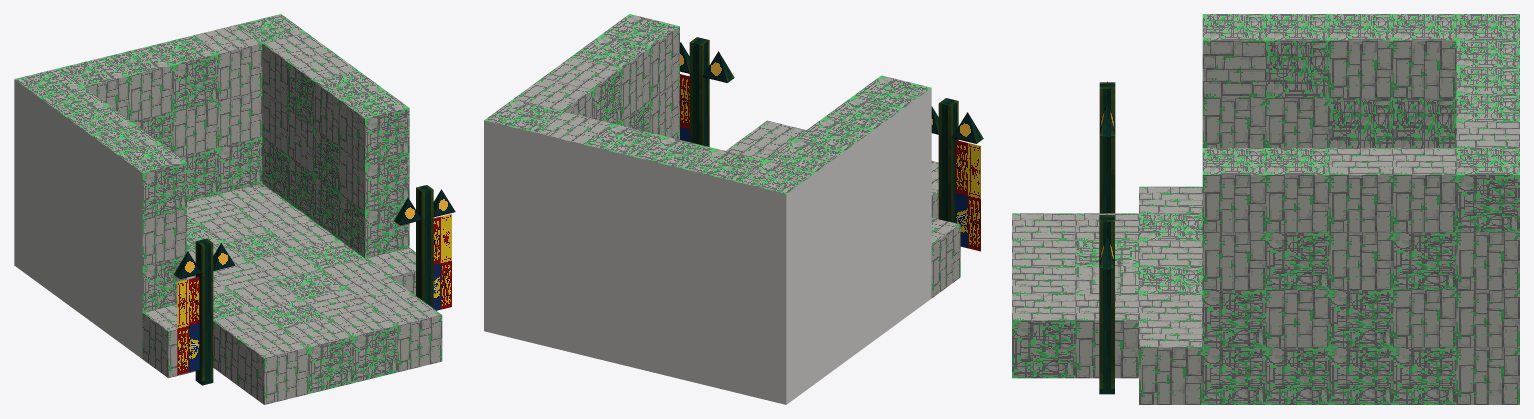
Rendered from BlockTile_1787352578.glb.
3 renders of one model, left to right at view 1: azimuth 30°, elevation 25°; view 2: azimuth 150°, elevation 25°; view 3: azimuth 270°, elevation 25°, orthographic. The views are drawn at different scales.
Visible parts, largest first — view 1: group_A8C6062A, group_6C0313ED, group_54126526, group_463A83C3, group_F192CCC8, group_F48D379F, group_FCF2D747, group_822B5C12, group_84A41A6B, group_44BA9EBA, group_4F5D5284, group_BB3BE84D (+56 smaller); view 2: group_A667FF08, group_A8C6062A, group_4E7DF7D3, group_458DBFCB, group_F923CE05, group_25A48617, group_BB3BE84D, group_4F5D5284, group_7901570D, group_A9ECB0AE, group_6C0313ED, group_F192CCC8 (+40 smaller); view 3: group_1BEBE0ED, group_822B5C12, group_9AB56C50, group_A9ECB0AE, group_AD615EF8, group_3CCA406B, group_54126526, group_646A727A, group_B1A921E3, group_F192CCC8, group_FD4D80A2, group_B5153871 (+37 smaller).
Boxes of the visible parts, bbox=[...] form: group_A8C6062A: bbox=[173, 238, 235, 385]; group_6C0313ED: bbox=[394, 185, 455, 310]; group_54126526: bbox=[339, 89, 409, 165]; group_463A83C3: bbox=[238, 329, 308, 404]; group_F192CCC8: bbox=[117, 143, 186, 219]; group_F48D379F: bbox=[339, 147, 409, 211]; group_FCF2D747: bbox=[283, 318, 353, 393]; group_822B5C12: bbox=[372, 296, 442, 372]; group_84A41A6B: bbox=[117, 201, 186, 266]; group_44BA9EBA: bbox=[328, 307, 397, 382]; group_4F5D5284: bbox=[192, 25, 262, 100]; group_BB3BE84D: bbox=[148, 36, 217, 111]; group_A667FF08: bbox=[736, 160, 815, 246]; group_A8C6062A: bbox=[931, 98, 983, 251]; group_4E7DF7D3: bbox=[736, 278, 815, 351]; group_458DBFCB: bbox=[736, 226, 815, 299]; group_F923CE05: bbox=[736, 331, 815, 404]; group_25A48617: bbox=[685, 148, 764, 234]; group_BB3BE84D: bbox=[585, 124, 663, 209]; group_4F5D5284: bbox=[534, 111, 613, 197]; group_7901570D: bbox=[635, 136, 713, 222]; group_A9ECB0AE: bbox=[484, 99, 562, 185]; group_6C0313ED: bbox=[680, 37, 734, 146]; group_F192CCC8: bbox=[852, 75, 931, 161]; group_1BEBE0ED: bbox=[1329, 14, 1392, 98]; group_822B5C12: bbox=[1012, 294, 1075, 378]; group_9AB56C50: bbox=[1329, 148, 1392, 232]; group_A9ECB0AE: bbox=[1456, 148, 1519, 232]; group_AD615EF8: bbox=[1139, 320, 1202, 404]; group_3CCA406B: bbox=[1266, 14, 1329, 98]; group_54126526: bbox=[1202, 148, 1265, 232]; group_646A727A: bbox=[1266, 148, 1329, 232]; group_B1A921E3: bbox=[1393, 148, 1456, 232]; group_F192CCC8: bbox=[1202, 14, 1265, 98]; group_FD4D80A2: bbox=[1393, 14, 1456, 98]; group_B5153871: bbox=[1075, 294, 1138, 378].
Bounding box in the file's own units: 6.2 × 4 × 8.
Materials: 12 (11 with a texture image).
